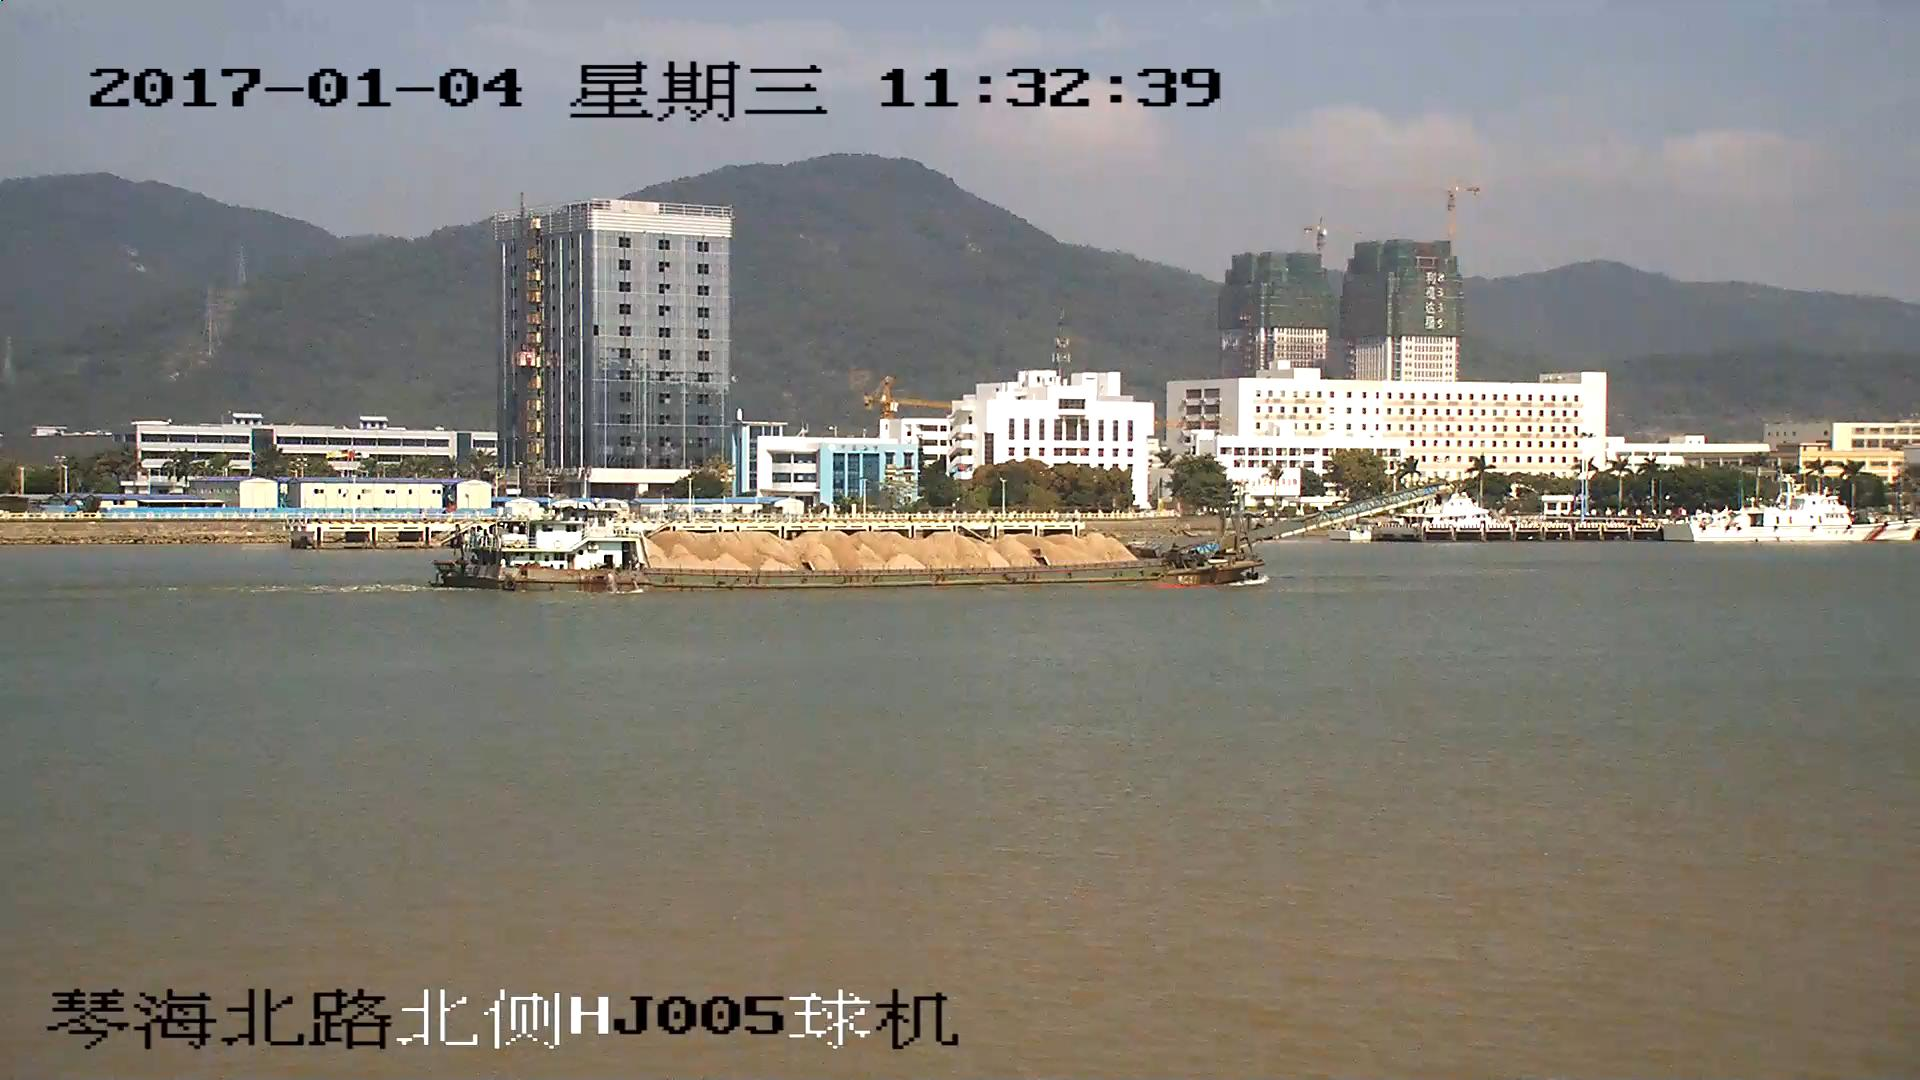ore carrier: (437, 477, 1458, 591)
